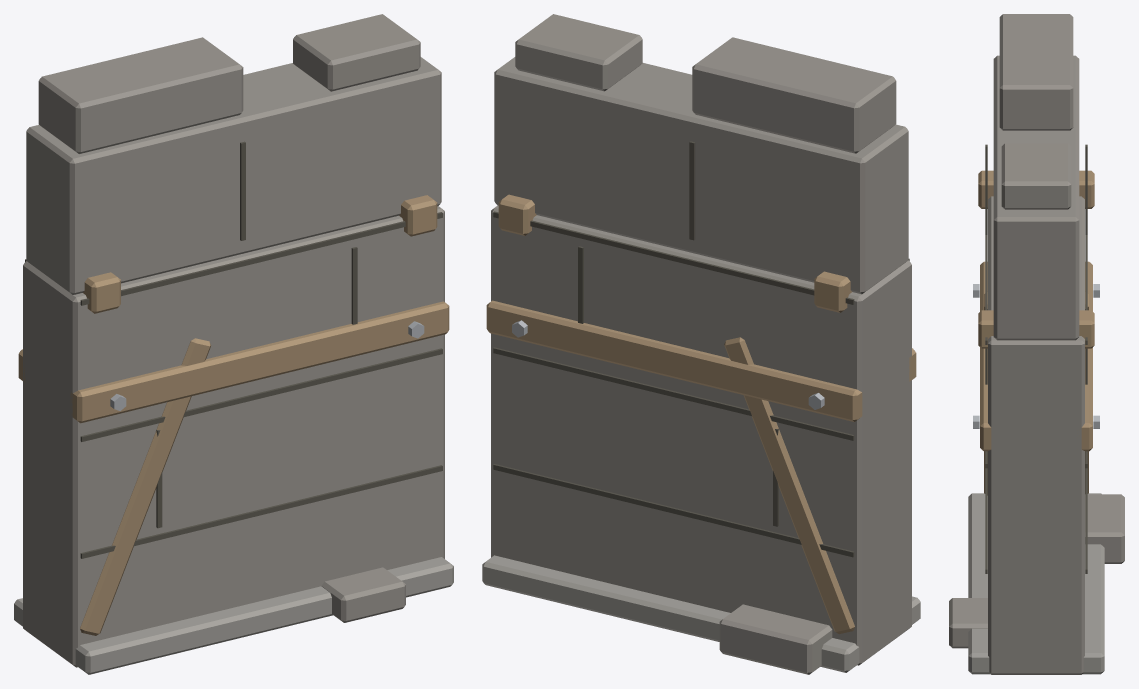
The model's file is wall.glb.
The picture shows the model from 3 angles, left to right: view 1: azimuth 30°, elevation 25°; view 2: azimuth 150°, elevation 25°; view 3: azimuth 270°, elevation 25°; orthographic projection. The views are drawn at different scales.
Parts seen in each view (by area): view 1: wall; view 2: wall; view 3: wall.
Part boxes in pixels (left/top/right/bottom): wall: left=14, top=14, right=453, bottom=674; wall: left=482, top=14, right=920, bottom=674; wall: left=949, top=14, right=1124, bottom=674.
Size of the model in its own units: 2 by 2.86 by 0.905.
